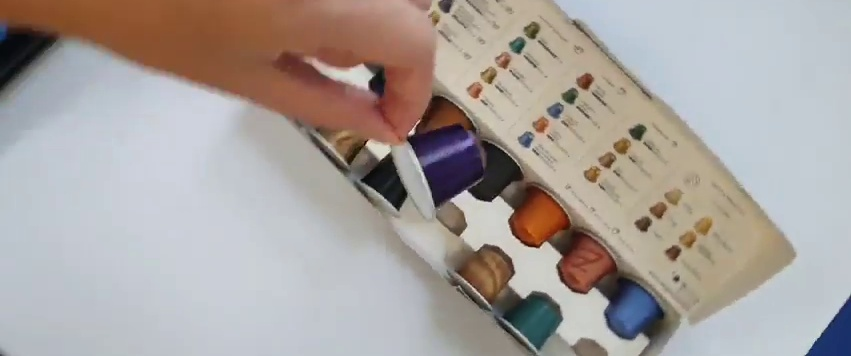capsule_11: (388, 118, 488, 214)
